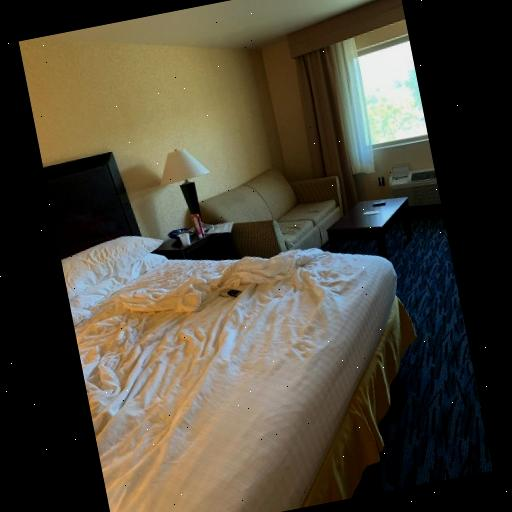lamp: (151, 130, 220, 242)
messy_bed: (42, 152, 411, 512)
organized table: (322, 196, 416, 252)
